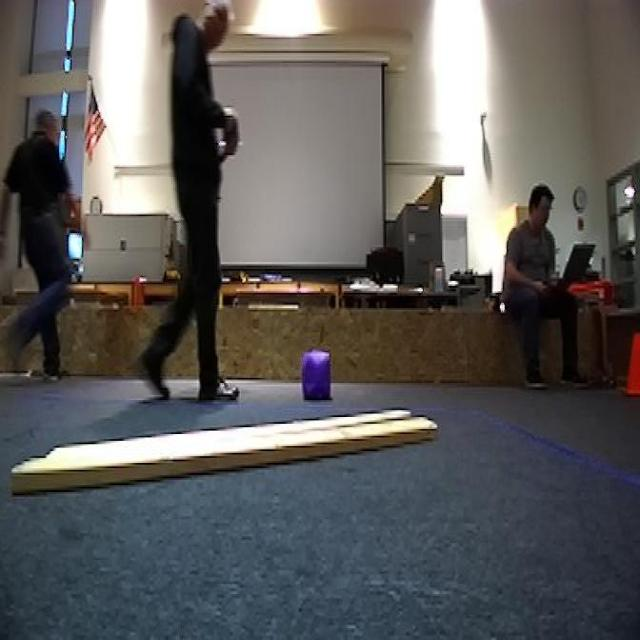frc_cube: (298, 352, 334, 400)
